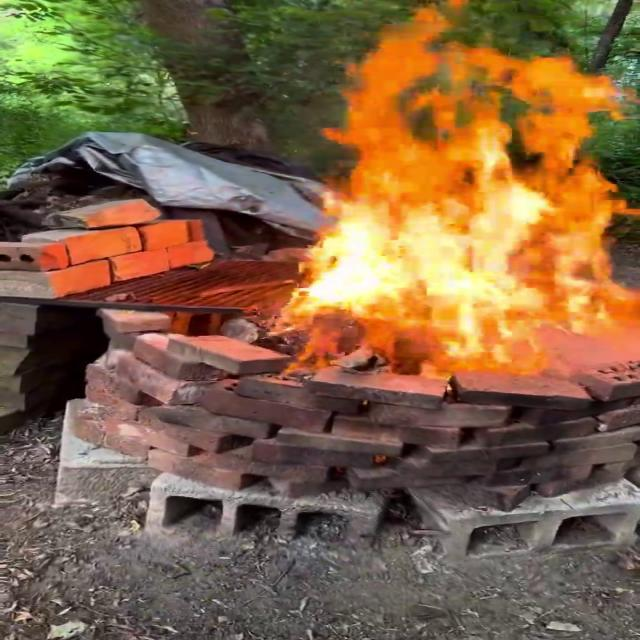Fire: (281, 1, 639, 385)
